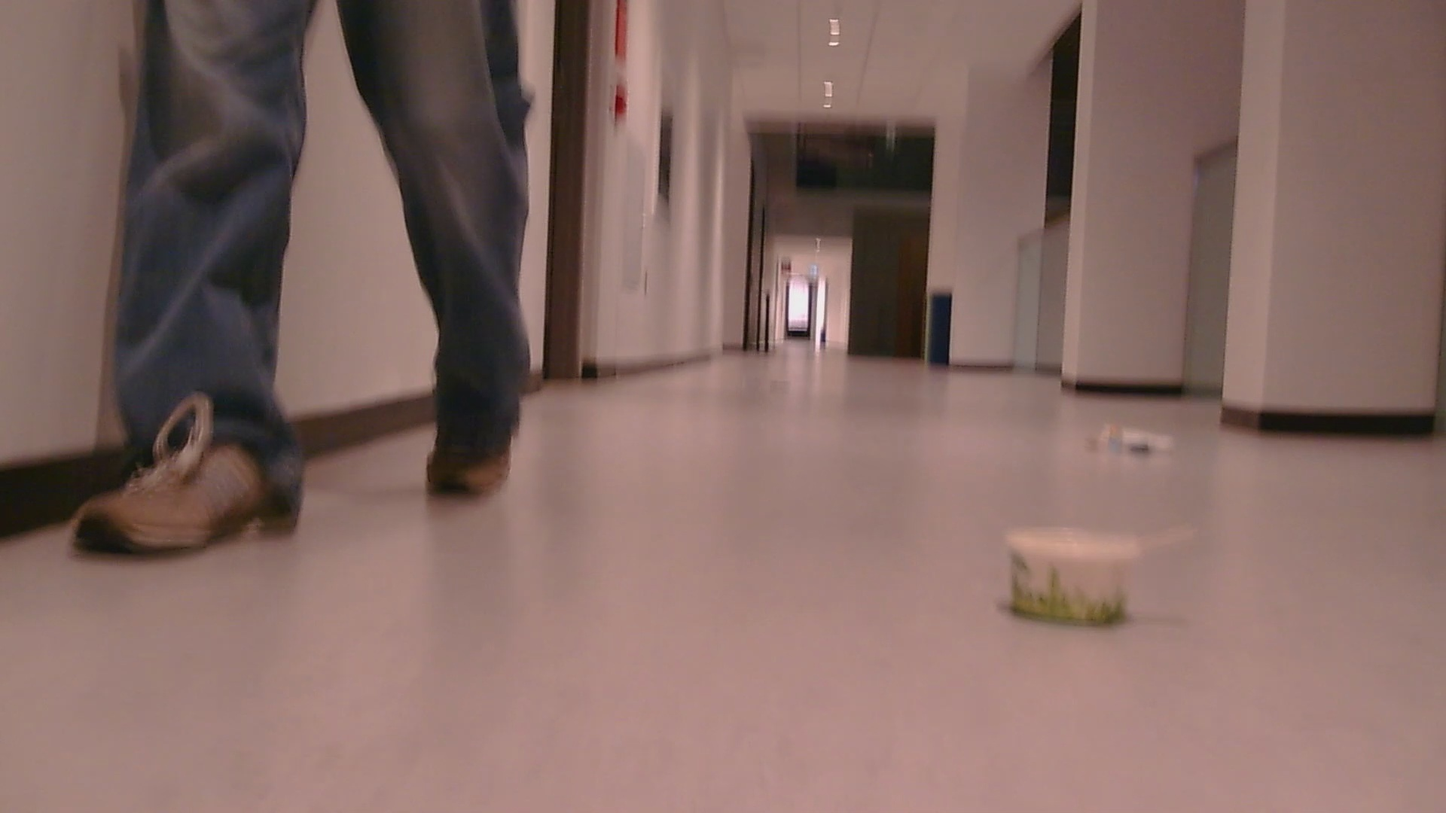carton: (1006, 518, 1187, 639), (1083, 431, 1176, 466)
